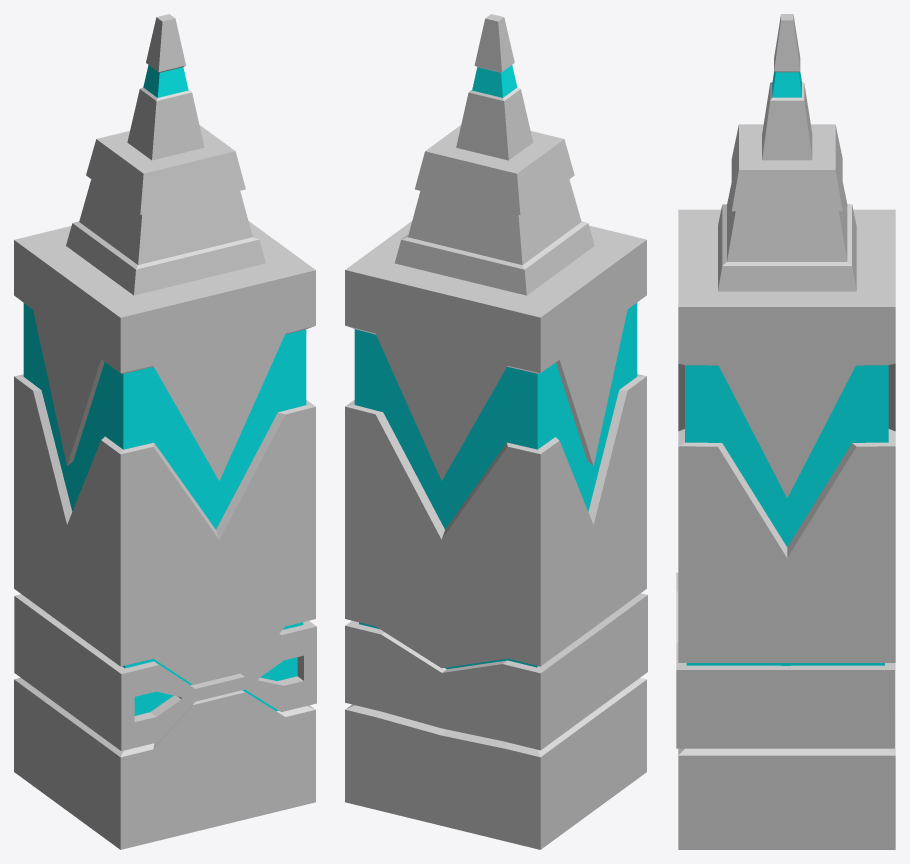
Rendered from Tower_2.fbx.
The picture shows the model from 3 angles, left to right: view 1: azimuth 30°, elevation 25°; view 2: azimuth 150°, elevation 25°; view 3: azimuth 270°, elevation 25°; orthographic projection. The views are drawn at different scales.
Visible parts, largest first — view 1: Tower_2; view 2: Tower_2; view 3: Tower_2.
Part boxes in pixels (<box>): Tower_2: <box>14,14,316,849</box>; Tower_2: <box>345,14,647,849</box>; Tower_2: <box>676,14,895,849</box>.
Size of the model in its own units: 7.71 by 28.97 by 7.33.
